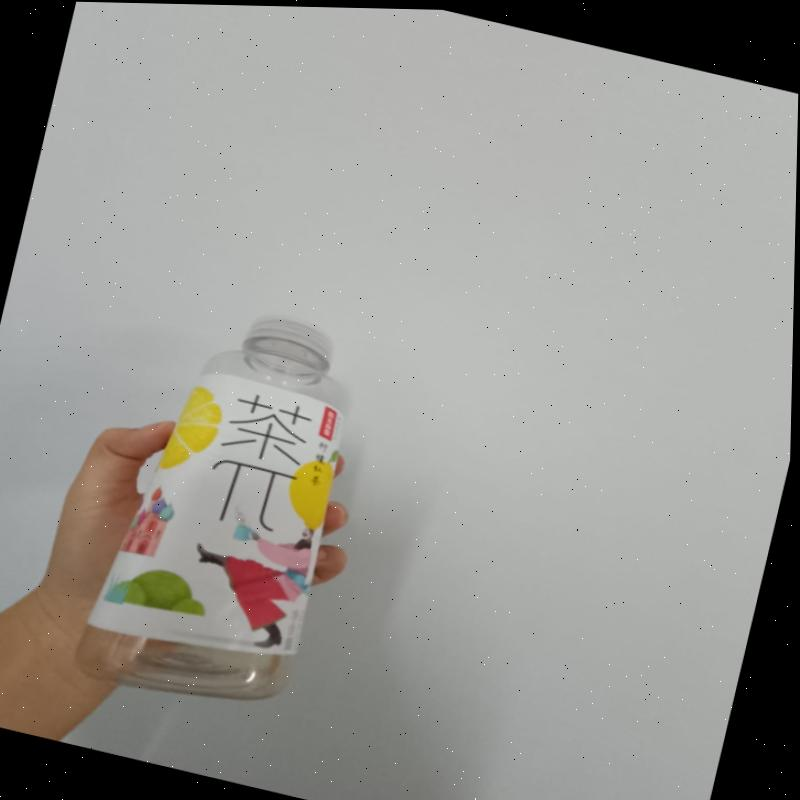botella: (64, 273, 388, 737)
